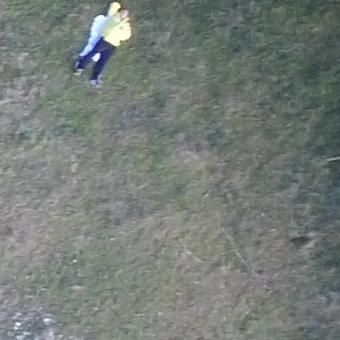human: (71, 5, 140, 85)
